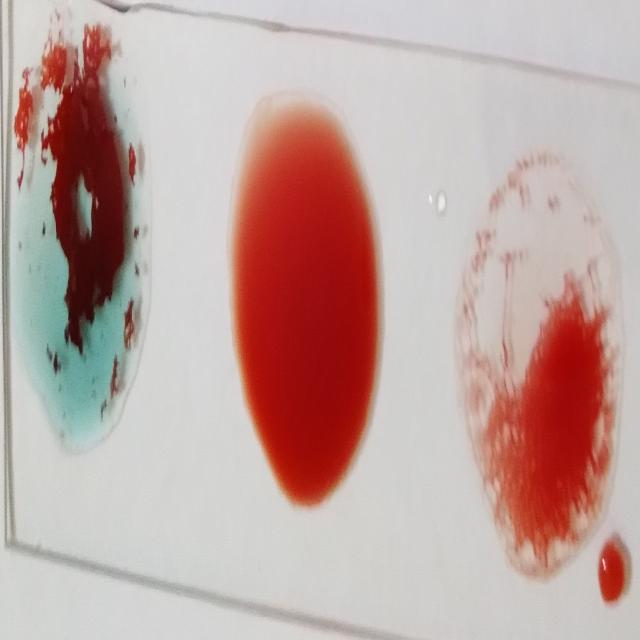A: (15, 37, 145, 452)
D: (473, 158, 608, 568)
